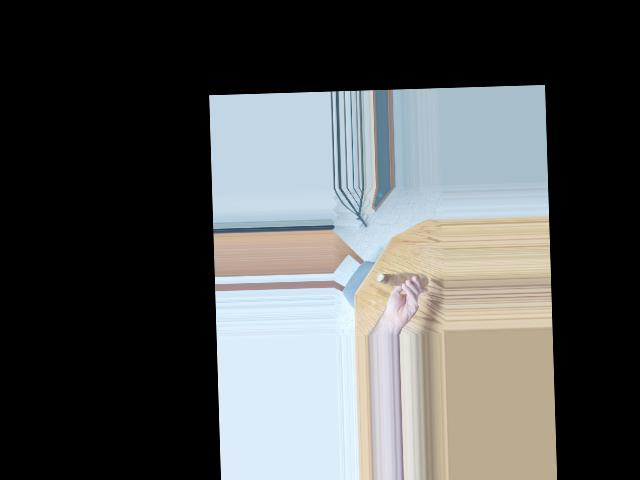sweet_potato: (375, 273, 419, 285)
